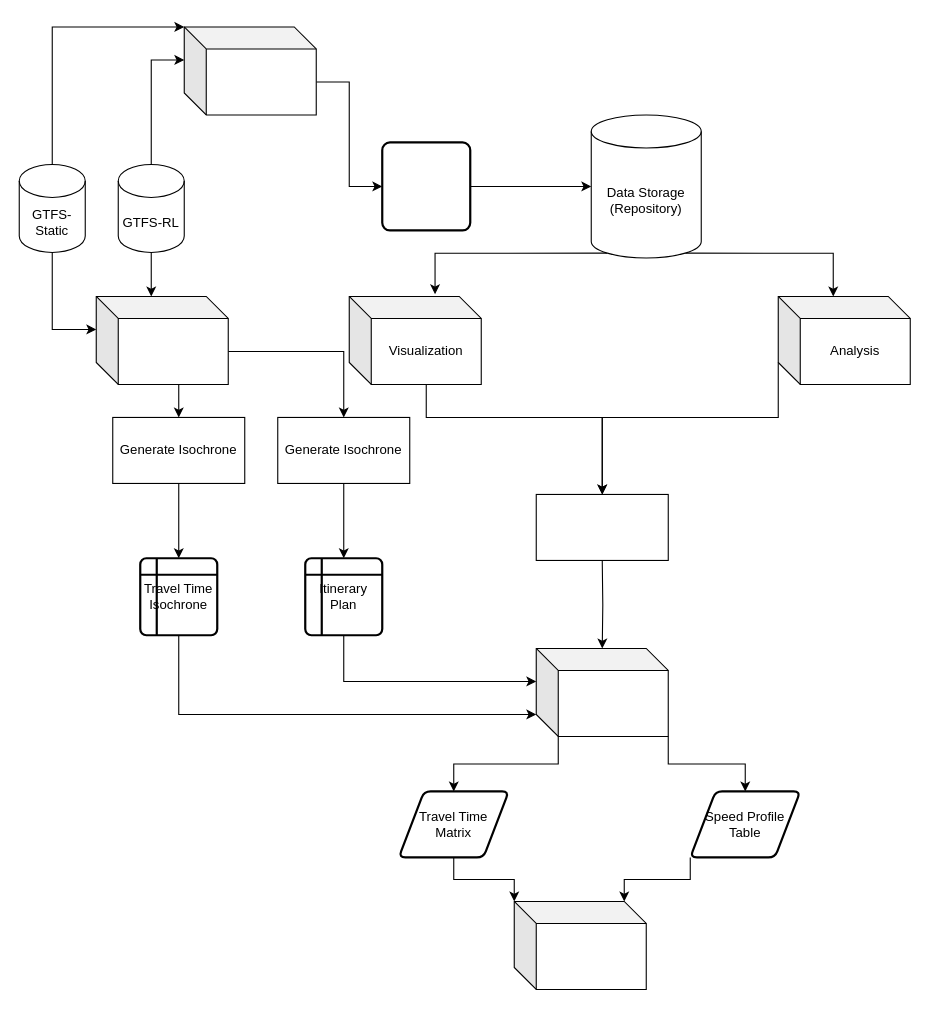
The diagram is 930 pixels wide and 1009 high, and some of its shapes have lost their labels. Each missing label, with the centre of its shape:
"Data Acquistion" belongs at (x=249, y=70).
"Energy Consumption Modelling" belongs at (x=579, y=944).
"OpenTripPlanner" belongs at (x=161, y=339).
"Preprocessing" belongs at (x=426, y=186).
"Ranking Algorithm (MCDA)" belongs at (x=601, y=526).
"Traffic Congestion Profile" belongs at (x=601, y=691).
